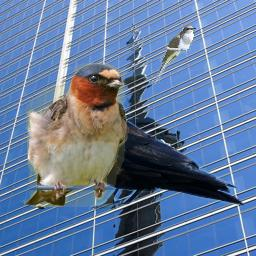Crow: (51, 102, 246, 210)
Cuckoo: (152, 25, 196, 85)
Swallow: (24, 63, 130, 207)
